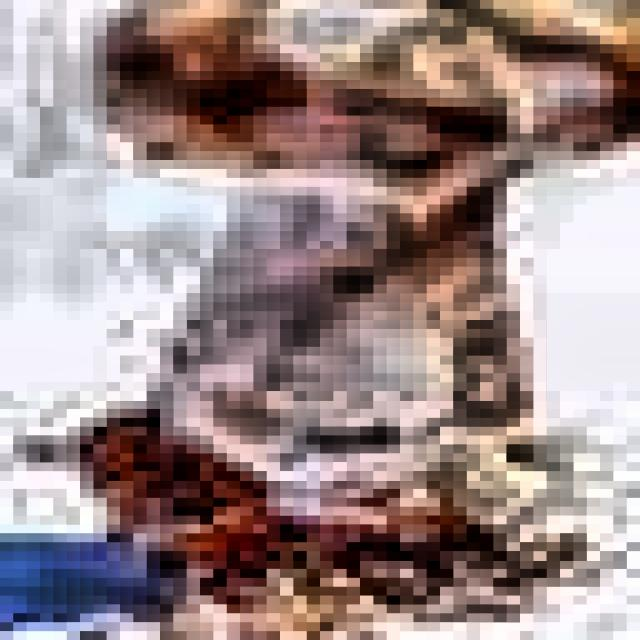Affected: (53, 0, 639, 204)
